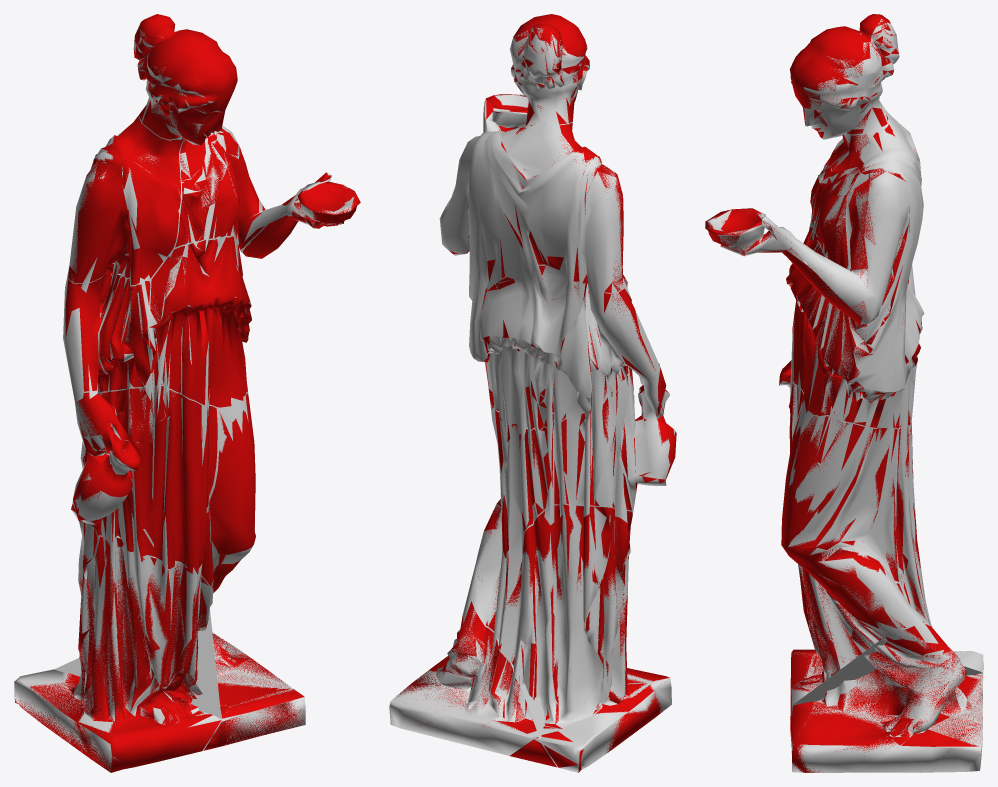
Rendered from SM_Statue_001_Fracture.fbx.
3 renders of one model, left to right at view 1: azimuth 30°, elevation 25°; view 2: azimuth 150°, elevation 25°; view 3: azimuth 270°, elevation 25°, orthographic. The views are drawn at different scales.
Parts seen in each view (by area): view 1: SM_Statue_001_Fracture, Statue_1_low_cell.009, Statue_1_low_cell.006, Statue_1_low_cell.010, Statue_1_low_cell.002, Statue_1_low_cell.007, Statue_1_low_cell, Statue_1_low_cell.005, Statue_1_low_cell.003, Statue_1_low_cell.008, Statue_1_low_cell.004; view 2: SM_Statue_001_Fracture, Statue_1_low_cell.009, Statue_1_low_cell.008, Statue_1_low_cell.006, Statue_1_low_cell.007, Statue_1_low_cell.002, Statue_1_low_cell.003, Statue_1_low_cell, Statue_1_low_cell.001; view 3: SM_Statue_001_Fracture, Statue_1_low_cell.008, Statue_1_low_cell.003, Statue_1_low_cell.010, Statue_1_low_cell.005, Statue_1_low_cell.007, Statue_1_low_cell.009, Statue_1_low_cell.004, Statue_1_low_cell.001, Statue_1_low_cell.006.
Boxes of the visible parts, box(x1,y1,x2,y2) form: SM_Statue_001_Fracture: box(14, 25, 354, 772); Statue_1_low_cell.009: box(14, 521, 221, 772); Statue_1_low_cell.006: box(71, 386, 217, 574); Statue_1_low_cell.010: box(148, 236, 251, 407); Statue_1_low_cell.002: box(68, 116, 183, 284); Statue_1_low_cell.007: box(133, 14, 237, 145); Statue_1_low_cell: box(65, 263, 162, 392); Statue_1_low_cell.005: box(175, 128, 331, 252); Statue_1_low_cell.003: box(201, 393, 255, 592); Statue_1_low_cell.008: box(204, 632, 305, 750); Statue_1_low_cell.004: box(243, 181, 360, 258); SM_Statue_001_Fracture: box(389, 27, 676, 772); Statue_1_low_cell.009: box(486, 504, 669, 772); Statue_1_low_cell.008: box(397, 601, 556, 767); Statue_1_low_cell.006: box(541, 364, 676, 510); Statue_1_low_cell.007: box(511, 14, 589, 125); Statue_1_low_cell.002: box(512, 122, 623, 292); Statue_1_low_cell.003: box(478, 388, 547, 580); Statue_1_low_cell: box(495, 265, 655, 420); Statue_1_low_cell.001: box(482, 284, 553, 430); SM_Statue_001_Fracture: box(707, 19, 983, 772); Statue_1_low_cell.008: box(790, 624, 982, 772); Statue_1_low_cell.003: box(781, 409, 915, 632); Statue_1_low_cell.010: box(786, 227, 884, 416); Statue_1_low_cell.005: box(762, 132, 909, 321); Statue_1_low_cell.007: box(789, 14, 898, 138); Statue_1_low_cell.009: box(790, 518, 982, 720); Statue_1_low_cell.004: box(705, 208, 862, 323); Statue_1_low_cell.001: box(834, 313, 920, 428); Statue_1_low_cell.006: box(779, 360, 803, 452).
Bounding box in the file's own units: 45.05 × 130 × 46.51.
